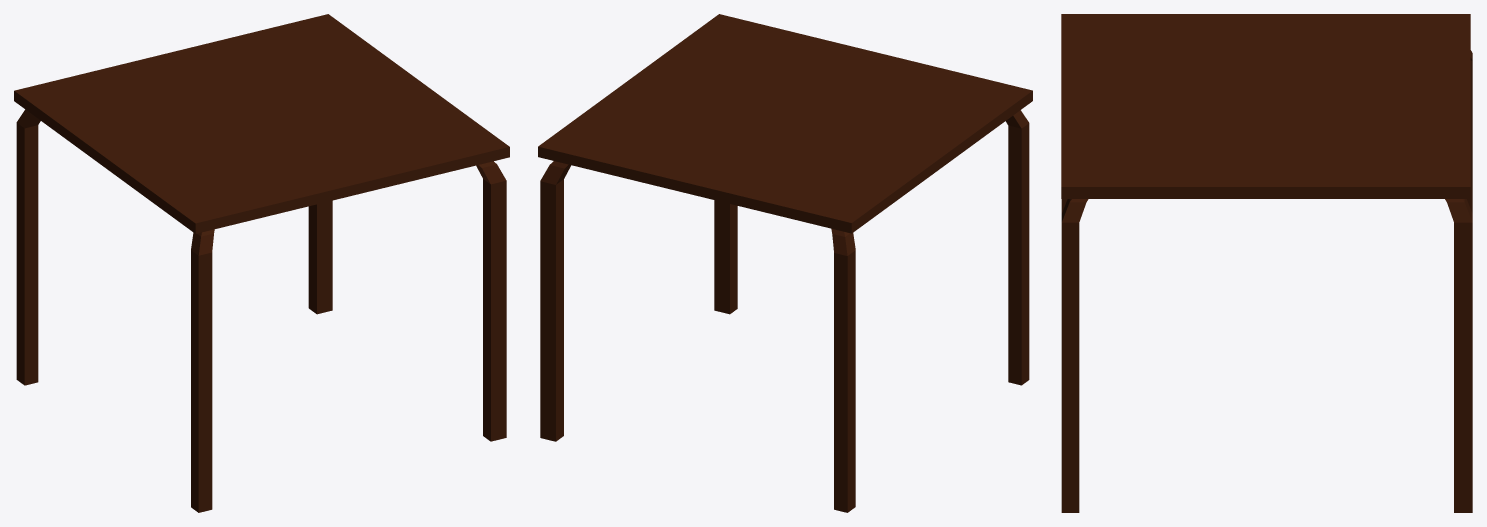
Rendered from smallTable.obj.
3 views of the same model, side by side, from view 1: azimuth 30°, elevation 25°; view 2: azimuth 150°, elevation 25°; view 3: azimuth 270°, elevation 25° (orthographic). The views are drawn at different scales.
Parts seen in each view (by area): view 1: Cube; view 2: Cube; view 3: Cube.
Part boxes in pixels (x1,y1,x2,y2): Cube: (14,14,509,512); Cube: (538,14,1032,512); Cube: (1061,14,1472,512).
Size of the model in its own units: 0.845 by 0.7462 by 0.8493.
